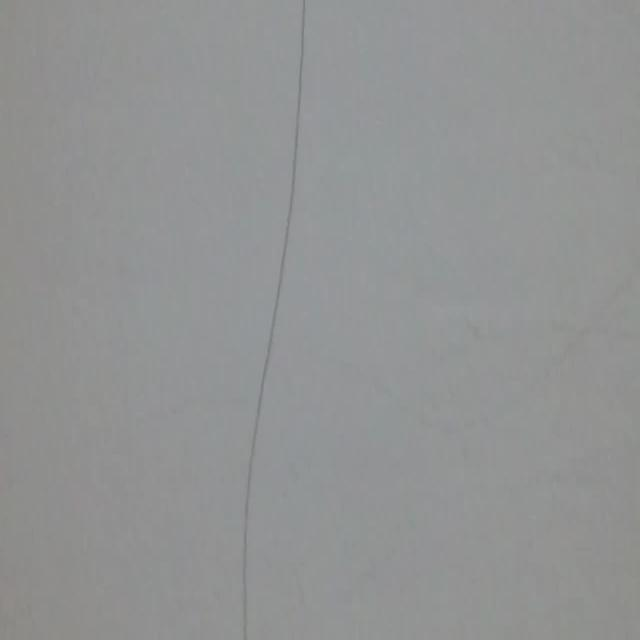Crack: (205, 0, 336, 636)
